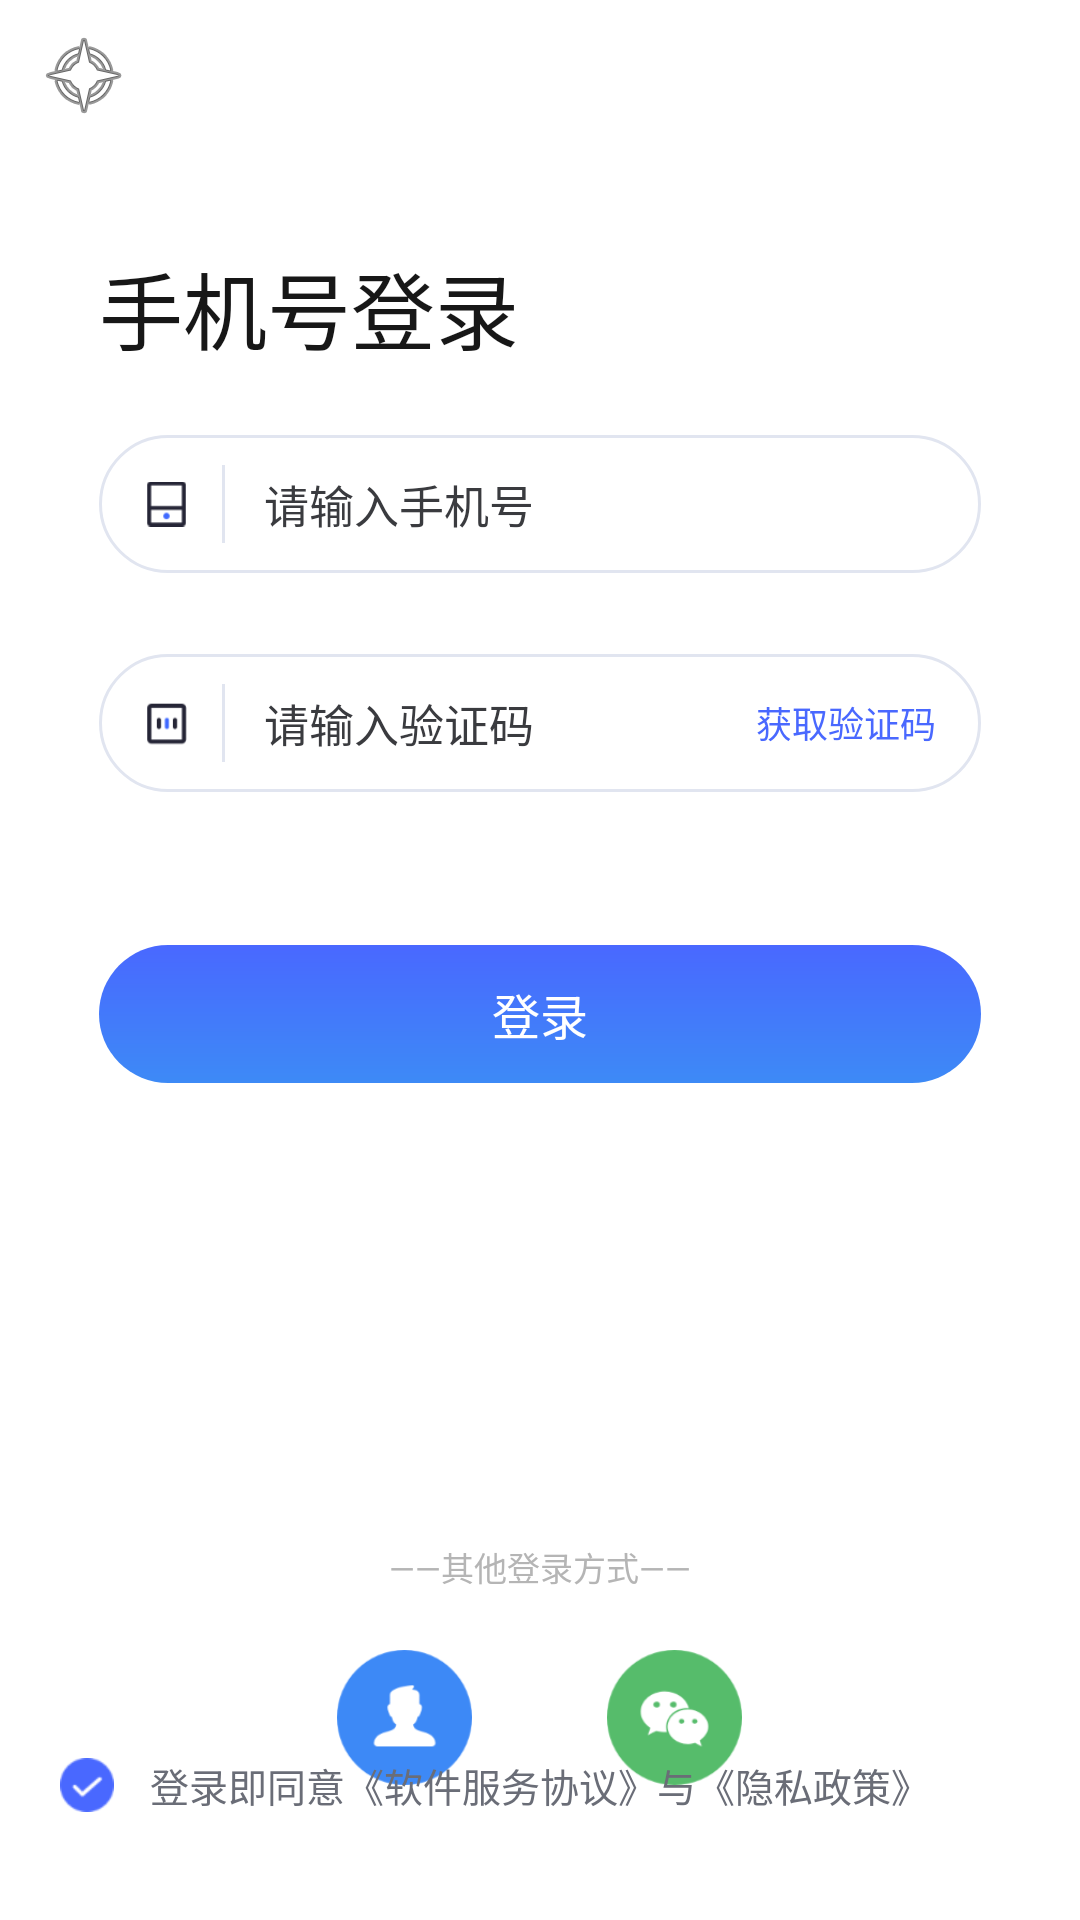

Icons on this 1080 x 1920 Android screen, each with the point to tap as [x,y]:
accounticon: [404,1717]
phone: [166,504]
pwdicon: [167,724]
